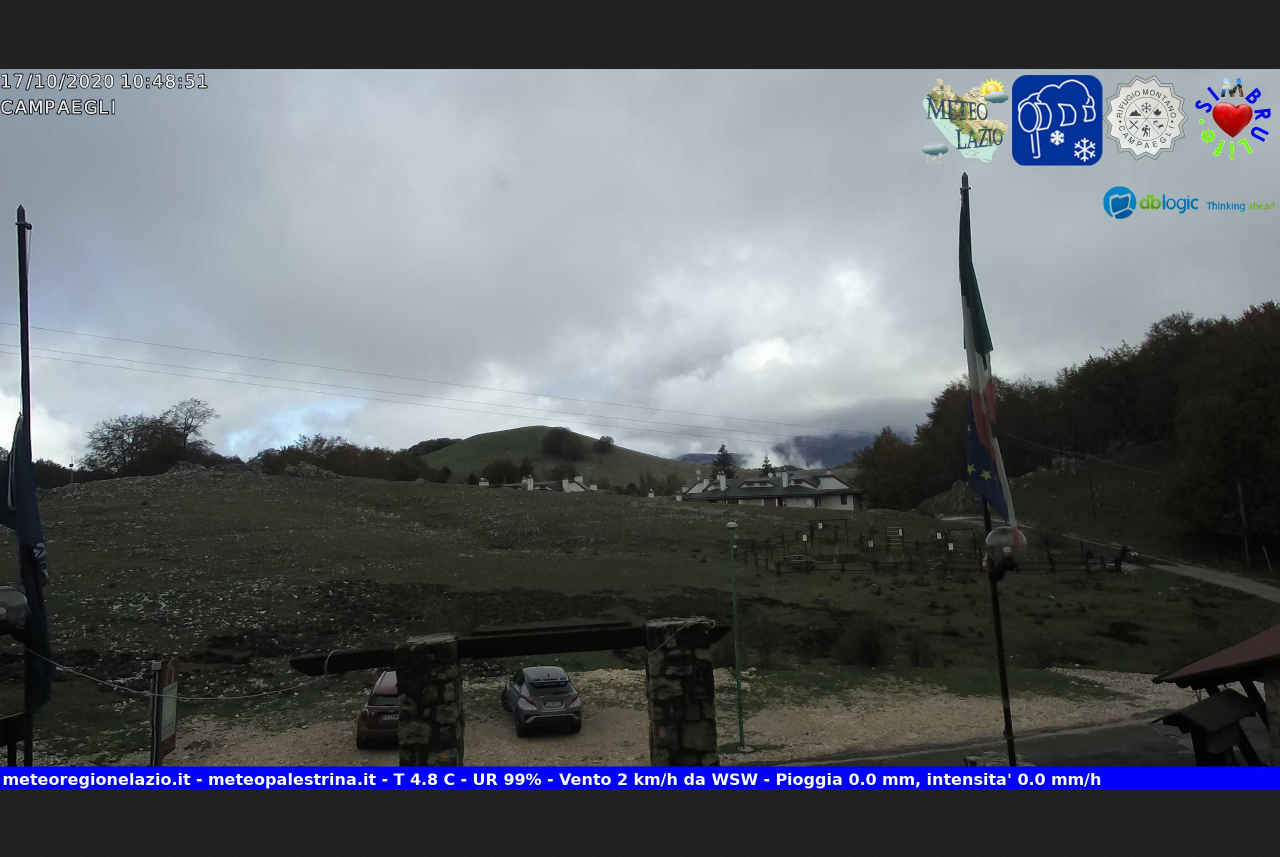no: (2, 413, 61, 720), (944, 180, 1009, 452), (955, 409, 1023, 532)
